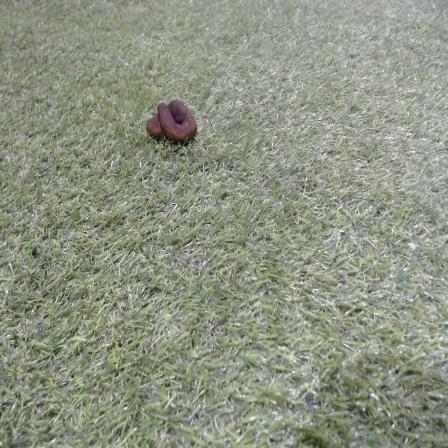dog-poop: (144, 98, 198, 144)
